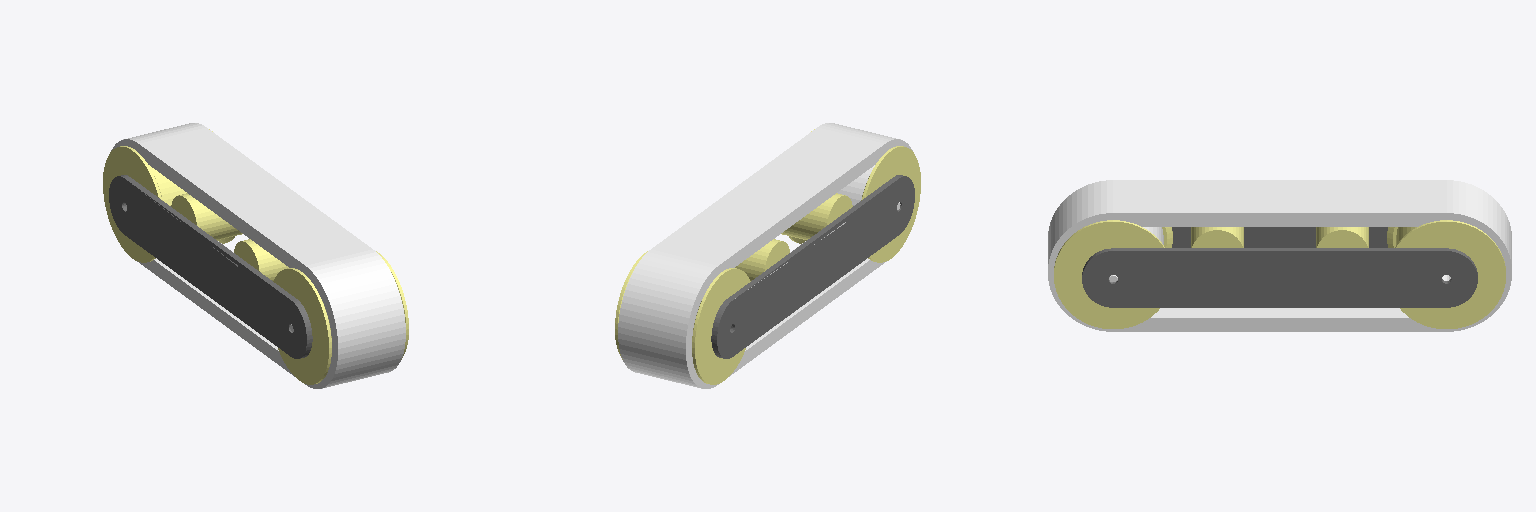
The model's file is brazo_der_trasero_v2.obj.
3 views of the same model, side by side, from view 1: azimuth 30°, elevation 25°; view 2: azimuth 150°, elevation 25°; view 3: azimuth 270°, elevation 25° (orthographic).
Parts seen in each view (by area): view 1: Object.1; view 2: Object.1; view 3: Object.1.
Part boxes in pixels (left/top/right/bottom): Object.1: left=103, top=123, right=408, bottom=388; Object.1: left=615, top=123, right=920, bottom=388; Object.1: left=1048, top=180, right=1511, bottom=331.
Bounding box in the file's own units: 107 × 126 × 446.